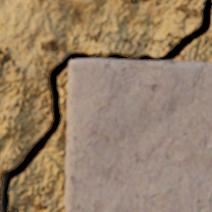brick: (65, 58, 211, 211)
crack: (2, 0, 211, 211)
